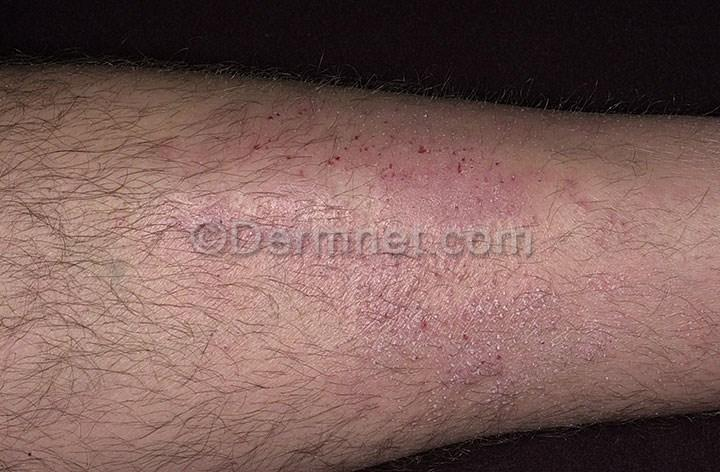Eczema: (326, 256, 720, 426), (215, 86, 583, 227)
